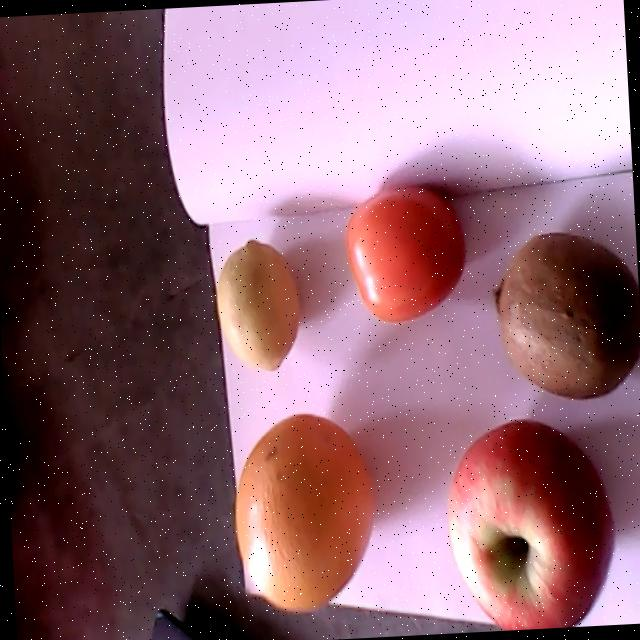apple: (448, 418, 615, 630)
kiwi: (490, 232, 640, 398)
lemon: (215, 238, 298, 371)
orange: (235, 414, 374, 614)
tomato: (345, 187, 466, 321)
